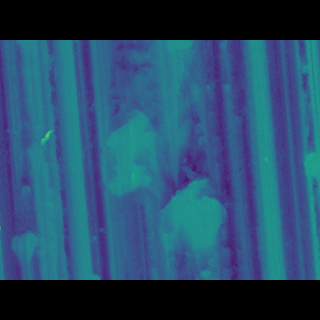Loch: (106, 70, 163, 194), (150, 170, 230, 232)
